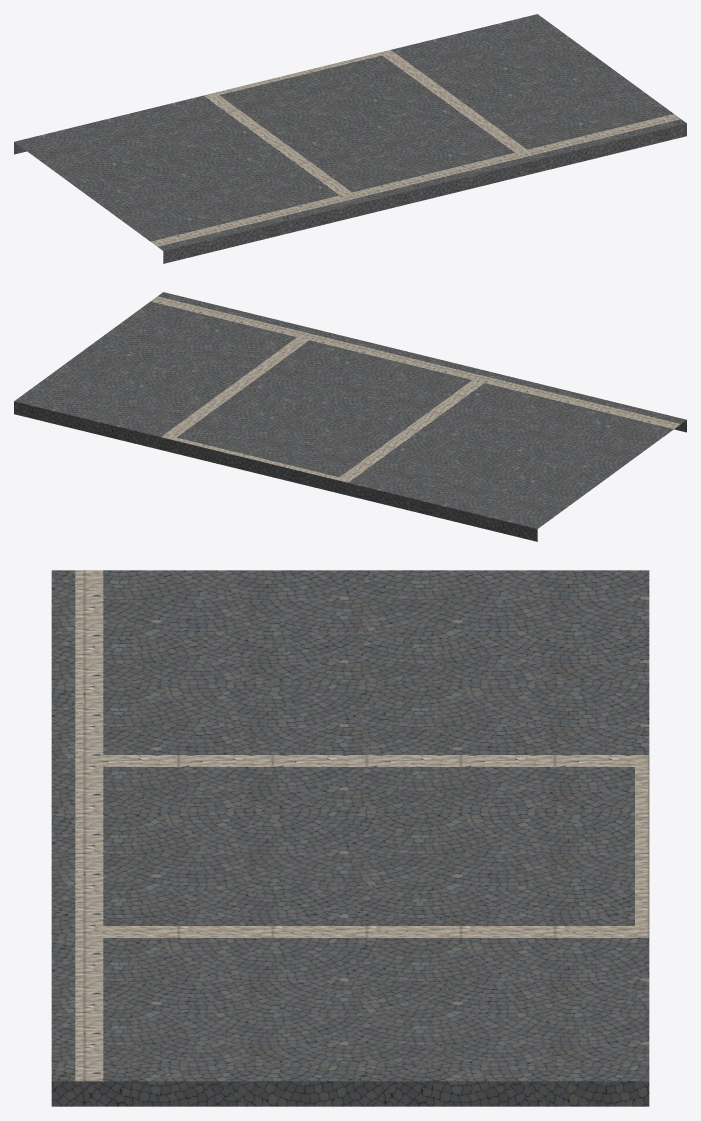
Rendered from SM_Pav_FasciaPalme_Fine_v2.fbx.
3 renders of one model, top to bottom at view 1: azimuth 30°, elevation 25°; view 2: azimuth 150°, elevation 25°; view 3: azimuth 270°, elevation 25°, orthographic. The views are drawn at different scales.
Parts seen in each view (by area): view 1: SM_Pav_FasciaPalme_Fine_v2; view 2: SM_Pav_FasciaPalme_Fine_v2; view 3: SM_Pav_FasciaPalme_Fine_v2.
Boxes of the visible parts, x1,y1,x2,y2 form: SM_Pav_FasciaPalme_Fine_v2: (14,14,686,263); SM_Pav_FasciaPalme_Fine_v2: (14,292,686,541); SM_Pav_FasciaPalme_Fine_v2: (51,570,649,1106).
Size of what is drawn, in the model's own units: 1285 by 635 by 30.
2 materials, 2 textured.
